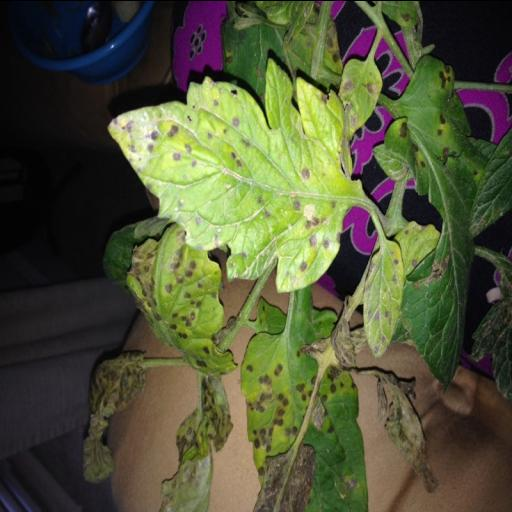disease_tomato: (100, 59, 358, 287), (386, 28, 480, 386), (126, 208, 236, 390), (246, 362, 372, 512), (240, 320, 322, 470), (154, 370, 234, 512), (354, 228, 404, 384), (335, 38, 381, 138)
